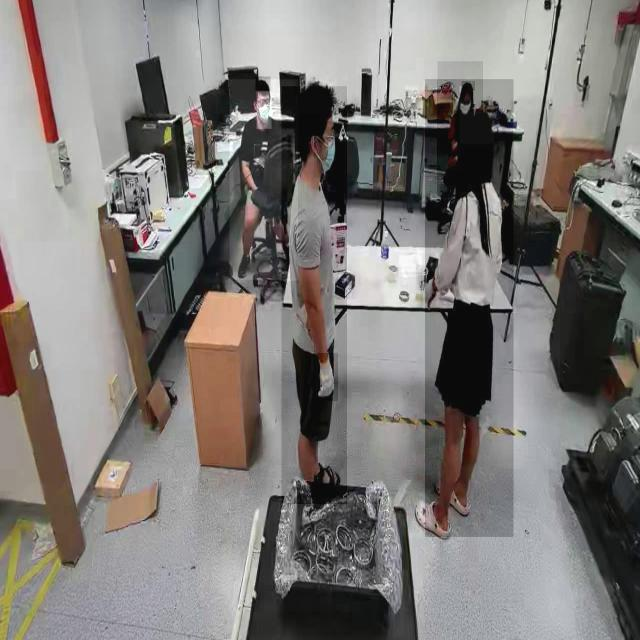face_mask: (314, 122, 340, 178), (256, 91, 272, 129), (459, 86, 471, 115)
hand_glove: (313, 353, 338, 402), (420, 271, 436, 308)
head_nohelmet: (298, 81, 338, 114), (459, 111, 494, 145), (255, 76, 271, 92), (461, 81, 475, 91)
person: (424, 79, 514, 538), (281, 86, 347, 505), (229, 79, 298, 281), (437, 61, 483, 198)
